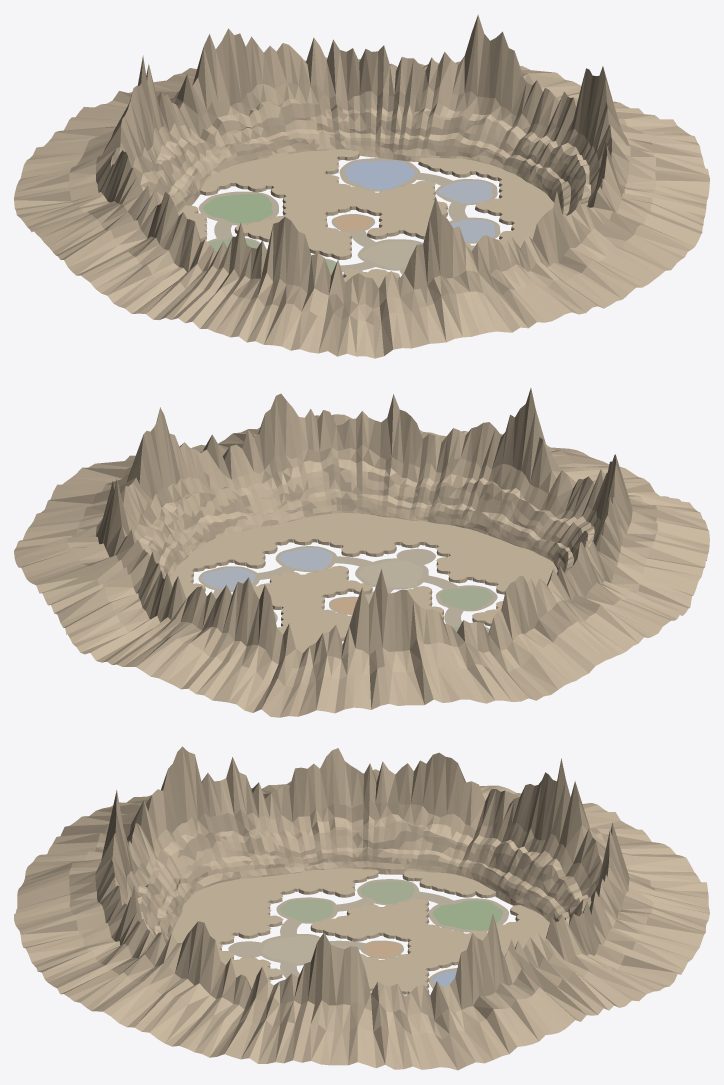
The model's file is map_dg_pedreira.glb.
3 renders of one model, top to bottom at view 1: azimuth 30°, elevation 25°; view 2: azimuth 150°, elevation 25°; view 3: azimuth 270°, elevation 25°, orthographic.
Parts seen in each view (by area): view 1: Z_dg_pedreira_penhascos, Z_dg_pedreira_morro_parede_0_0, Z_dg_pedreira_chao_cristal_chefe, Z_dg_pedreira_chao_musgo_chefe, Z_dg_pedreira_chao_vestibulo, Z_dg_pedreira_chao_cristal_2, Z_dg_pedreira_chao_cristal_1, Z_dg_pedreira_praca_musgo_chefe, Z_dg_pedreira_praca_cristal_chefe; view 2: Z_dg_pedreira_penhascos, Z_dg_pedreira_morro_parede_0_0, Z_dg_pedreira_chao_vestibulo, Z_dg_pedreira_chao_cristal_1, Z_dg_pedreira_chao_musgo_1, Z_dg_pedreira_chao_cristal_2; view 3: Z_dg_pedreira_penhascos, Z_dg_pedreira_morro_parede_0_0, Z_dg_pedreira_chao_musgo_chefe, Z_dg_pedreira_chao_vestibulo, Z_dg_pedreira_chao_musgo_2, Z_dg_pedreira_chao_musgo_1, Z_dg_pedreira_praca_musgo_chefe.
Boxes of the visible parts, bbox=[...] form: Z_dg_pedreira_penhascos: bbox=[14, 14, 709, 358]; Z_dg_pedreira_morro_parede_0_0: bbox=[178, 149, 553, 287]; Z_dg_pedreira_chao_cristal_chefe: bbox=[345, 160, 415, 189]; Z_dg_pedreira_chao_musgo_chefe: bbox=[202, 194, 272, 223]; Z_dg_pedreira_chao_vestibulo: bbox=[361, 241, 419, 268]; Z_dg_pedreira_chao_cristal_2: bbox=[438, 181, 492, 203]; Z_dg_pedreira_chao_cristal_1: bbox=[451, 219, 495, 241]; Z_dg_pedreira_praca_musgo_chefe: bbox=[198, 191, 278, 225]; Z_dg_pedreira_praca_cristal_chefe: bbox=[339, 158, 420, 191]; Z_dg_pedreira_penhascos: bbox=[14, 388, 709, 717]; Z_dg_pedreira_morro_parede_0_0: bbox=[170, 513, 557, 652]; Z_dg_pedreira_chao_vestibulo: bbox=[359, 560, 423, 587]; Z_dg_pedreira_chao_cristal_1: bbox=[279, 547, 332, 570]; Z_dg_pedreira_chao_musgo_1: bbox=[439, 587, 493, 609]; Z_dg_pedreira_chao_cristal_2: bbox=[201, 567, 255, 590]; Z_dg_pedreira_penhascos: bbox=[14, 746, 709, 1070]; Z_dg_pedreira_morro_parede_0_0: bbox=[172, 868, 549, 994]; Z_dg_pedreira_chao_musgo_chefe: bbox=[432, 900, 502, 930]; Z_dg_pedreira_chao_vestibulo: bbox=[261, 935, 318, 963]; Z_dg_pedreira_chao_musgo_2: bbox=[360, 881, 414, 903]; Z_dg_pedreira_chao_musgo_1: bbox=[280, 899, 333, 922]; Z_dg_pedreira_praca_musgo_chefe: bbox=[428, 898, 508, 932].
Bounding box in the file's own units: 281 × 60.33 × 280.
